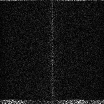wifi: (1, 99, 104, 103)
